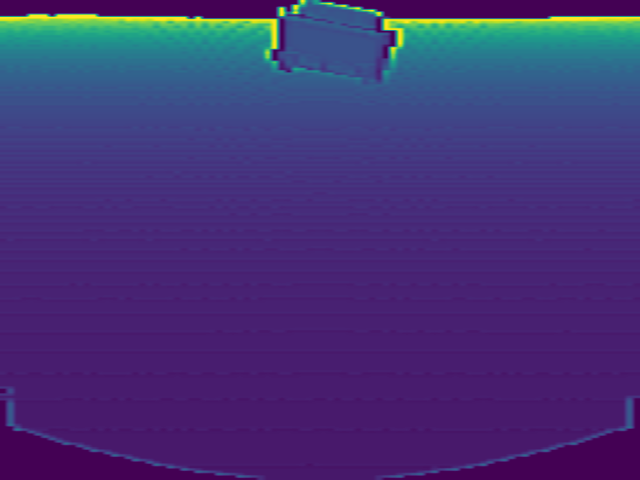car_0027: (272, 1, 399, 85)
